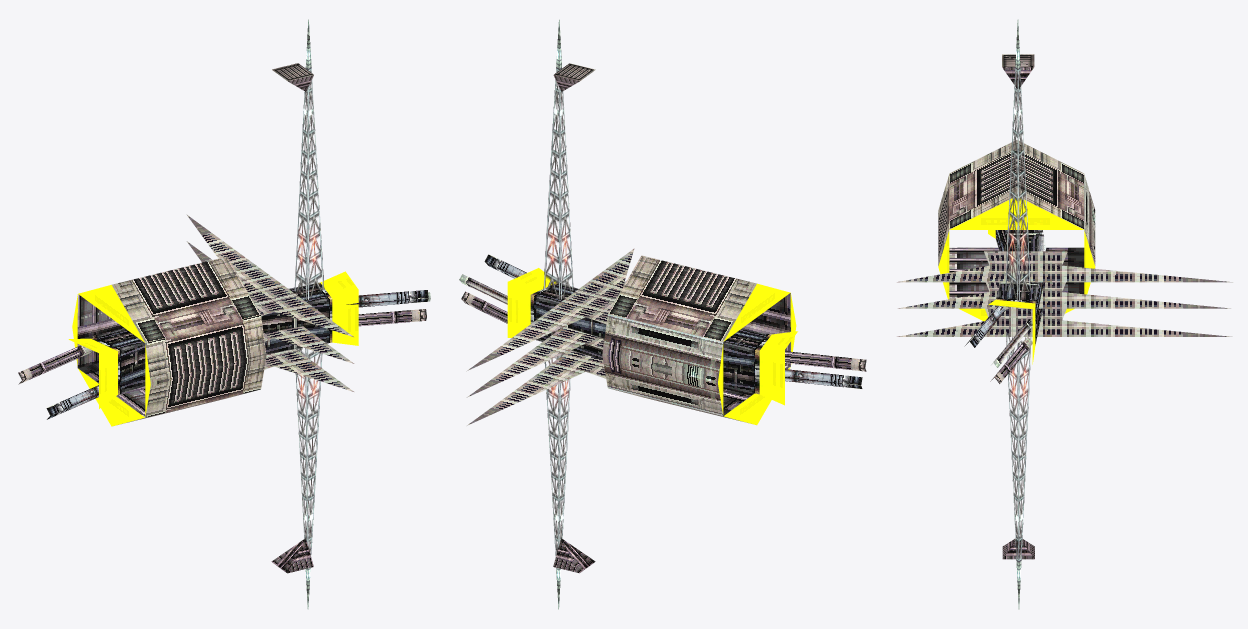
The model's file is tsquadron_3db.gltf.
3 renders of one model, left to right at view 1: azimuth 30°, elevation 25°; view 2: azimuth 150°, elevation 25°; view 3: azimuth 270°, elevation 25°, orthographic.
Visible parts, largest first — view 1: tsquadron.3db; view 2: tsquadron.3db; view 3: tsquadron.3db.
Part boxes in pixels (left/top/right/bottom): tsquadron.3db: left=18, top=19, right=430, bottom=609; tsquadron.3db: left=459, top=19, right=866, bottom=609; tsquadron.3db: left=897, top=19, right=1232, bottom=609.
Bounding box in the file's own units: 20.54 × 28.72 × 14.61.
Materials: 7 (7 with a texture image).
